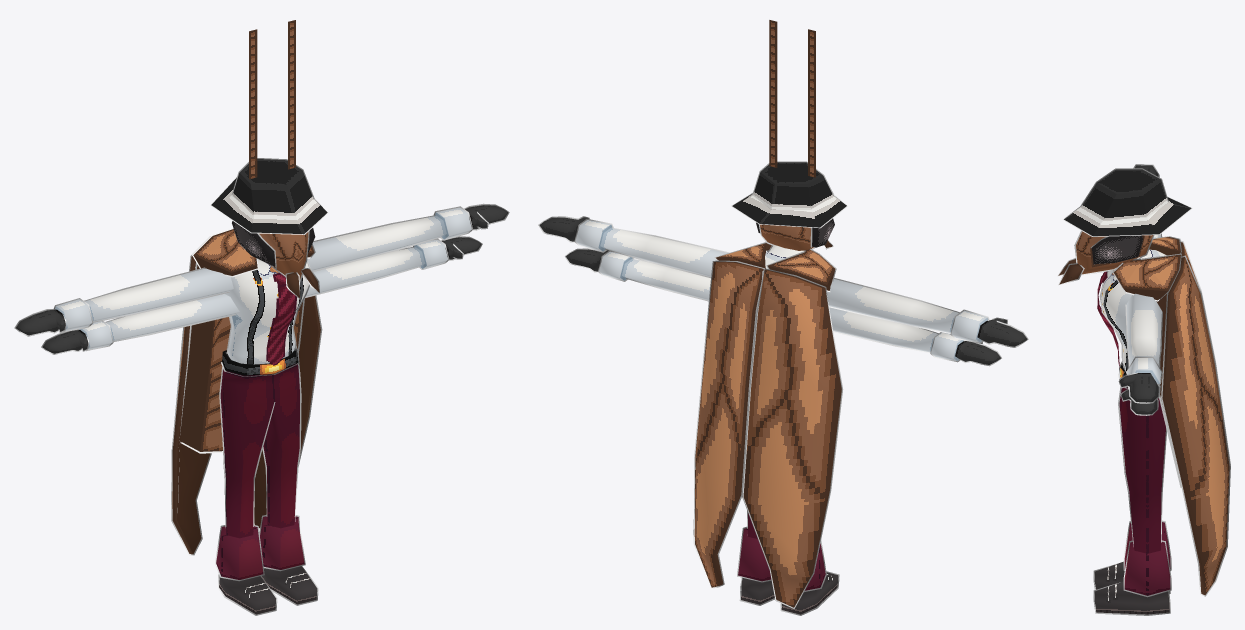
Rendered from K.AFK.glb.
3 views of the same model, side by side, from view 1: azimuth 30°, elevation 25°; view 2: azimuth 150°, elevation 25°; view 3: azimuth 270°, elevation 25° (orthographic).
Parts seen in each view (by area): view 1: Pernas, Braço, Braço2, Asas1, Chapeu, Carapaça, Torso, antena, Asas2, Cabeça, Gravata, Olhos; view 2: Asas1, Braço, Braço2, Chapeu, Pernas, antena, Asas2, Cabeça; view 3: Asas1, Pernas, Chapeu, Braço, Asas2, Cabeça, Torso, Olhos, Carapaça, Braço2, Gravata.
Part boxes in pixels (box(x1,y1,x2,y2)): Pernas: box(215, 346, 318, 615); Braço: box(14, 203, 509, 336); Braço2: box(41, 236, 482, 354); Asas1: box(171, 236, 322, 555); Chapeu: box(210, 158, 328, 234); Carapaça: box(180, 262, 304, 453); Torso: box(225, 258, 310, 364); antena: box(249, 20, 295, 179); Asas2: box(192, 228, 315, 277); Cabeça: box(257, 231, 319, 299); Gravata: box(266, 273, 296, 365); Olhos: box(232, 221, 315, 266); Asas1: box(693, 260, 843, 609); Braço: box(538, 216, 1028, 347); Braço2: box(565, 248, 1001, 366); Chapeu: box(731, 161, 847, 228); Pernas: box(737, 510, 839, 615); antena: box(769, 20, 815, 177); Asas2: box(714, 242, 836, 291); Cabeça: box(758, 224, 833, 250); Asas1: box(1161, 240, 1230, 596); Pernas: box(1093, 361, 1171, 615); Chapeu: box(1063, 168, 1192, 236); Braço: box(1118, 164, 1162, 403); Asas2: box(1112, 236, 1181, 301); Cabeça: box(1057, 230, 1154, 285); Torso: box(1099, 249, 1166, 373); Olhos: box(1092, 235, 1142, 264); Carapaça: box(1156, 294, 1181, 487); Braço2: box(1120, 358, 1160, 415); Gravata: box(1097, 271, 1119, 367).
Bounding box in the file's own units: 13.96 × 15.61 × 4.35.
4 materials, 3 textured.
